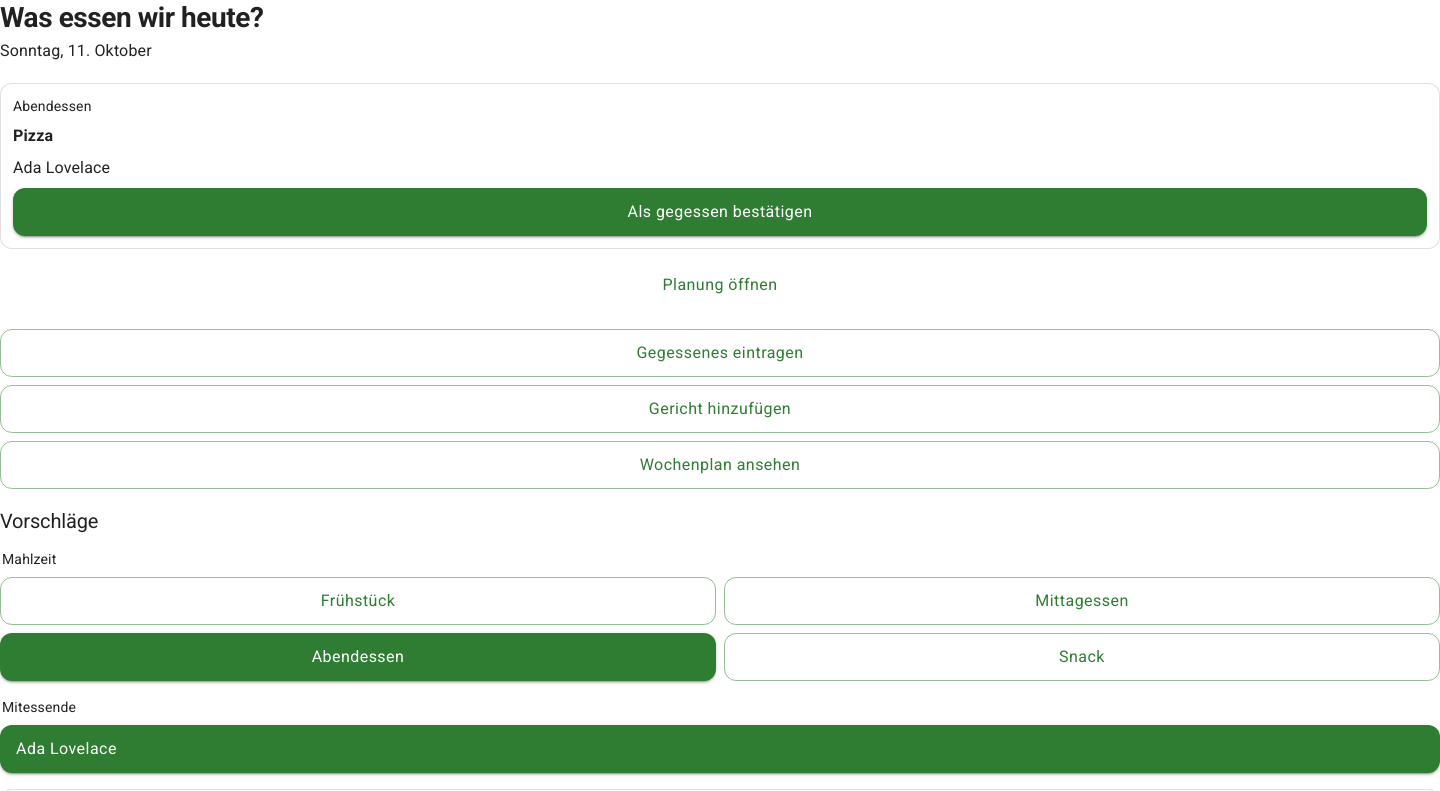
Test: bestätigt eine heutige Planung als gegessen
Check: the element with test id "today-entry" shows "Pizza", box left=13, top=126, right=53, bottom=145
Click the button with test id "today-eaten". click: (720, 212)
box: left=13, top=188, right=1427, bottom=236
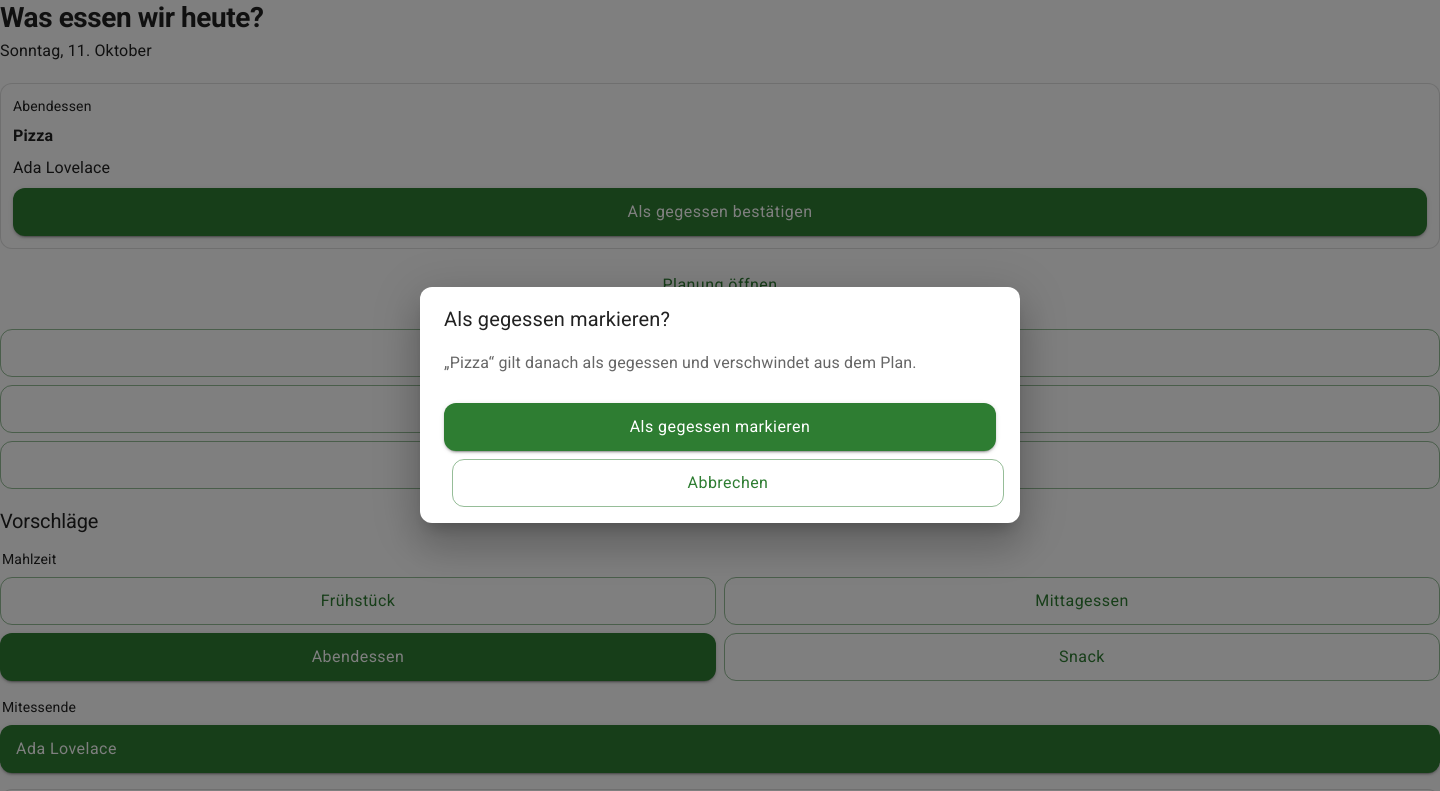
Click the button with test id "confirm-eaten". click: (720, 427)
box: left=444, top=403, right=996, bottom=451
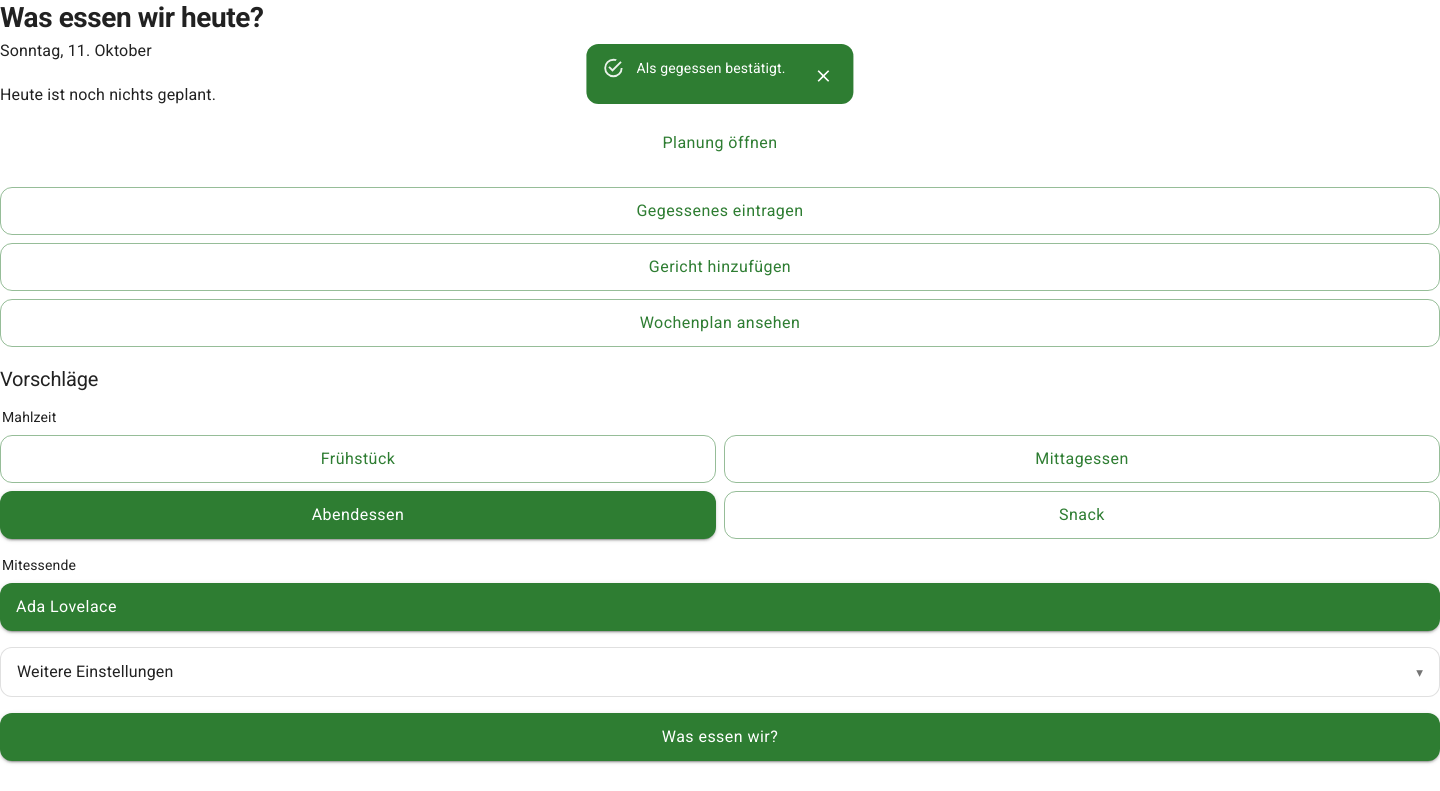
Check: the text "Heute ist noch nichts geplant." is shown, box left=0, top=85, right=216, bottom=104
Check: the message with test id "success-notice" reads "Als gegessen bestätigt.", box left=636, top=60, right=786, bottom=76
